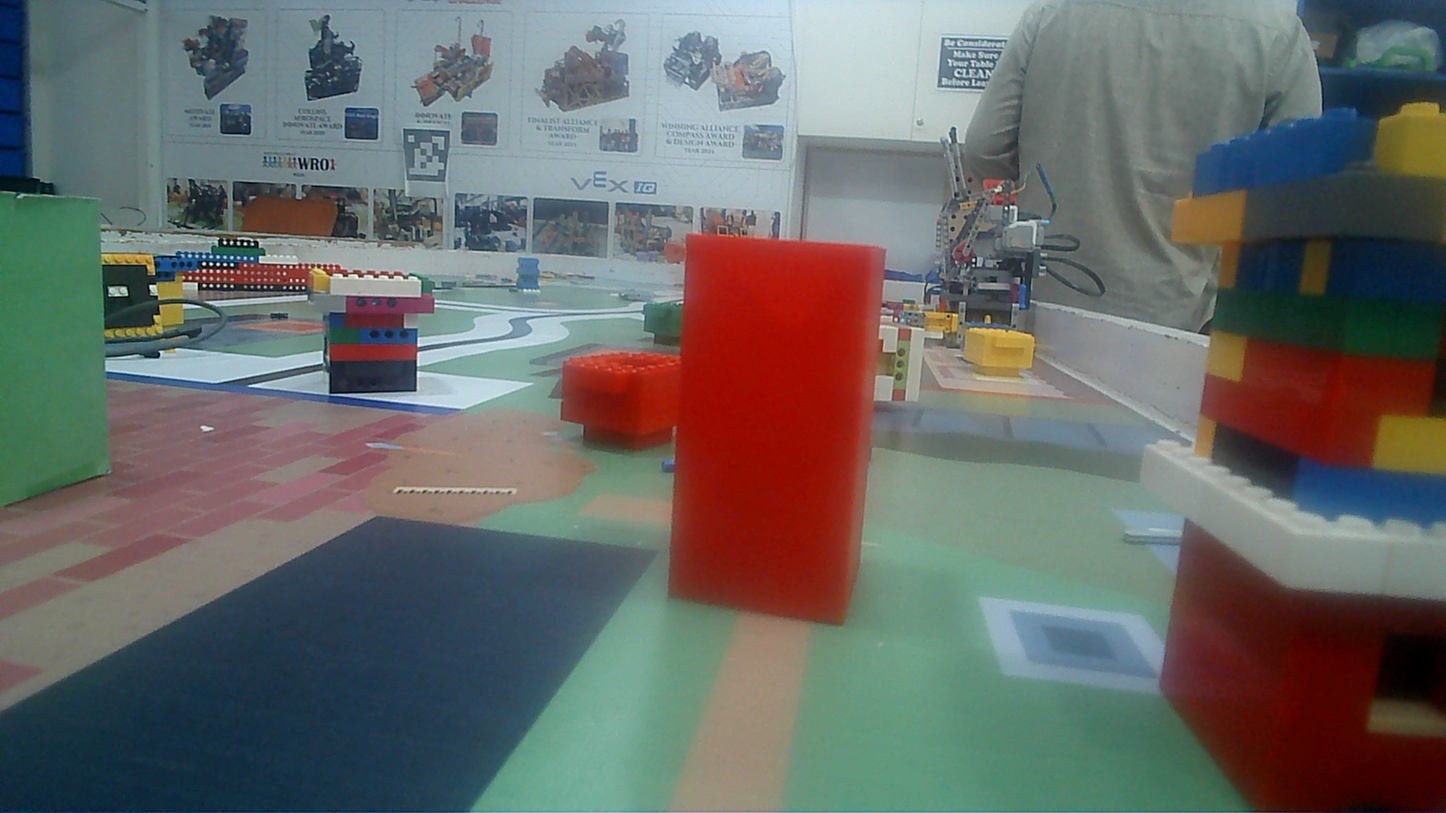red: (669, 247, 874, 604)
